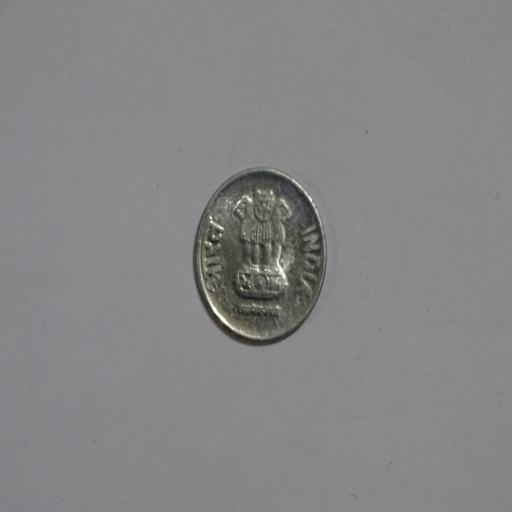rupee1: (190, 165, 328, 343)
